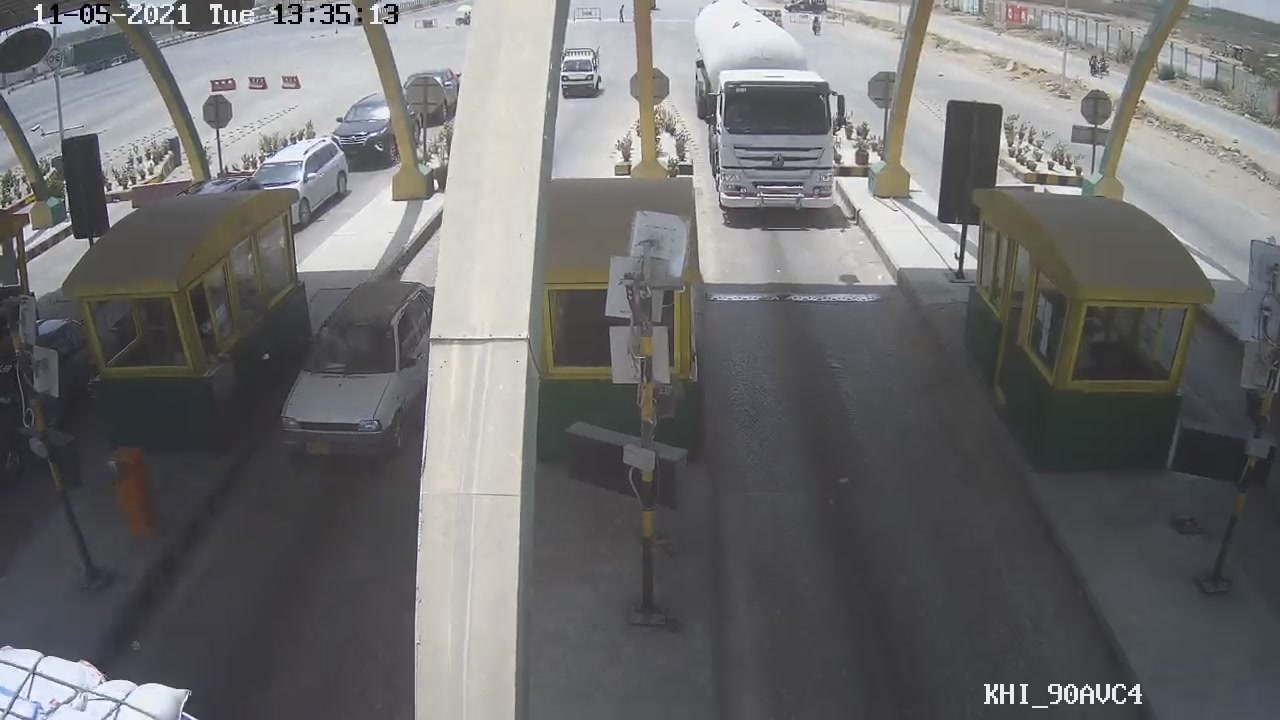F6: (682, 4, 852, 229)
